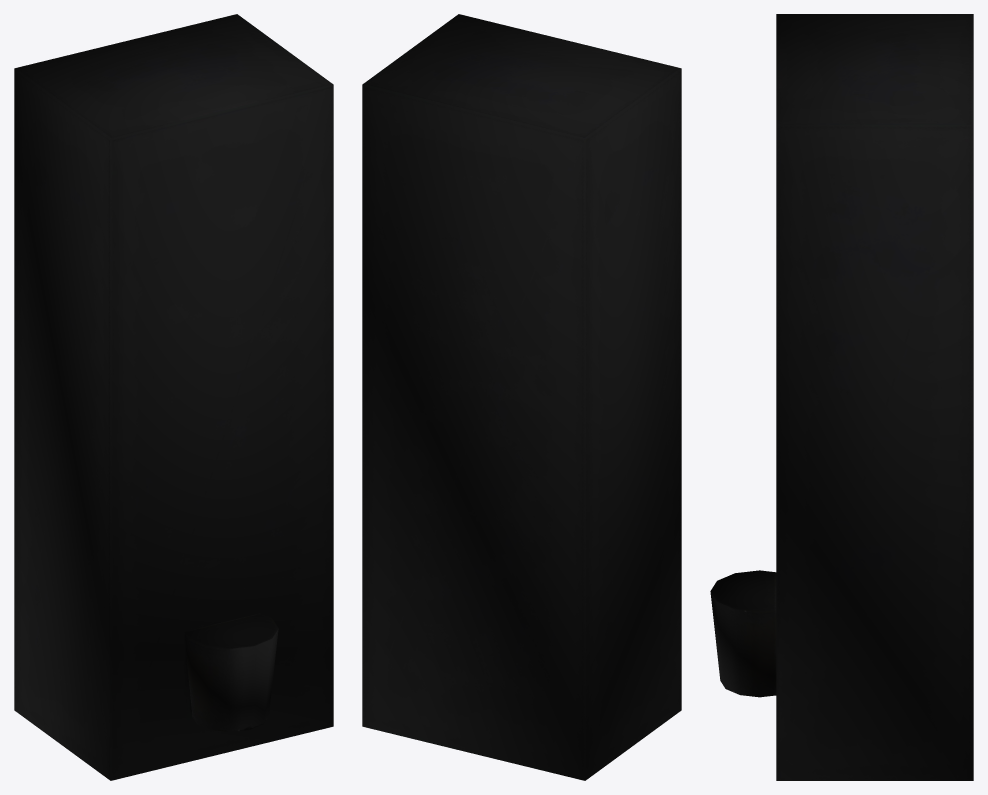
File: station-coffee-machine-tripo-original.glb
3 views of the same model, side by side, from view 1: azimuth 30°, elevation 25°; view 2: azimuth 150°, elevation 25°; view 3: azimuth 270°, elevation 25° (orthographic). The views are drawn at different scales.
Parts seen in each view (by area): view 1: Authored_surface_008; view 2: Authored_surface_008; view 3: Authored_surface_008.
Part boxes in pixels (x1,y1,x2,y2): Authored_surface_008: [14, 14, 333, 780]; Authored_surface_008: [362, 14, 681, 780]; Authored_surface_008: [710, 14, 973, 780].
Bounding box in the file's own units: 0.3636 × 1 × 0.3636.
Materials: 1 (1 with a texture image).
